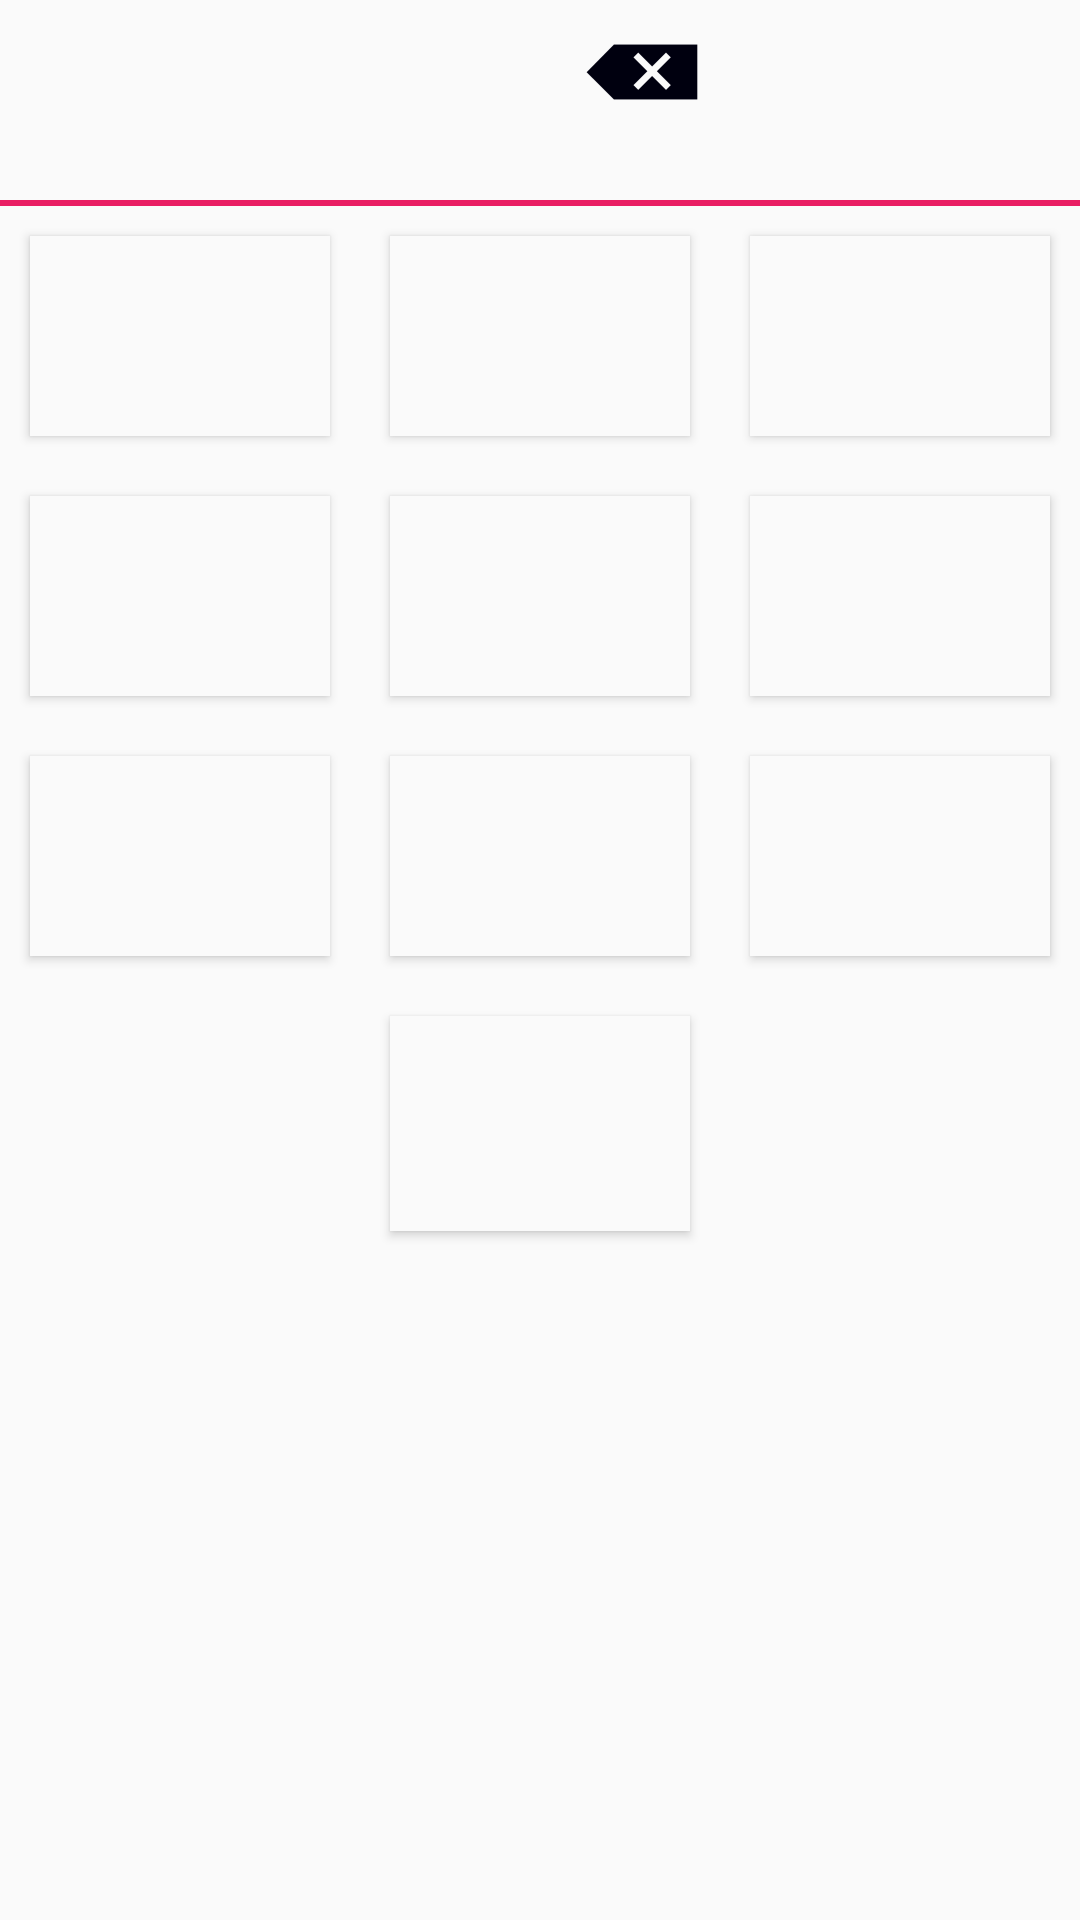

Icon click points for this 1080 × 1920 phone screenshot, format (x,y):
backspace: (642,72)
